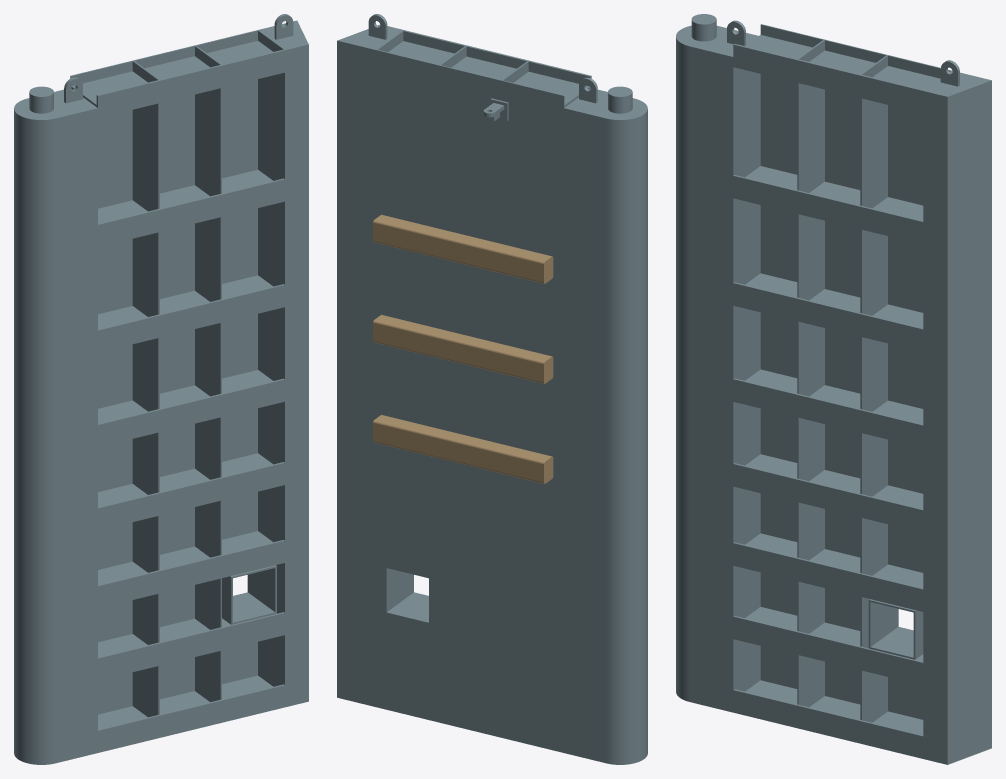
The model's file is step_08.glb.
The picture shows the model from 3 angles, left to right: view 1: azimuth 30°, elevation 25°; view 2: azimuth 150°, elevation 25°; view 3: azimuth 330°, elevation 25°; orthographic projection.
Visible parts, largest first — view 1: part__heel post, part__skin plate, part__mitre post, part__stiffener 1, part__stiffener 2, part__girder 8, part__girder 3, part__girder 6, part__girder 4, part__girder 5, part__girder 1, part__girder 7 (+2 smaller); view 2: part__skin plate, part__heel post, part__mitre post, part__oak fender 2, part__oak fender 1, part__oak fender 3, part__girder 8, part__paddle culvert; view 3: part__heel post, part__mitre post, part__skin plate, part__stiffener 1, part__stiffener 2, part__girder 8, part__girder 3, part__girder 1, part__girder 4, part__girder 6, part__girder 5, part__girder 7 (+2 smaller).
Part boxes in pixels (x1,y1,x2,y2): part__heel post: (14, 86, 97, 764); part__skin plate: (70, 30, 257, 714); part__mitre post: (257, 20, 308, 707); part__stiffener 1: (132, 61, 159, 717); part__stiffener 2: (195, 45, 221, 701); part__girder 8: (71, 41, 284, 117); part__girder 3: (98, 531, 284, 608); part__girder 6: (98, 275, 284, 352); part__girder 4: (98, 453, 284, 530); part__girder 5: (98, 370, 284, 447); part__girder 1: (98, 675, 284, 752); part__girder 7: (98, 169, 284, 246); part__skin plate: (377, 50, 564, 752); part__heel post: (564, 86, 647, 764); part__mitre post: (337, 24, 404, 707); part__oak fender 2: (373, 314, 553, 383); part__oak fender 1: (373, 415, 553, 483); part__oak fender 3: (373, 214, 553, 283); part__girder 8: (388, 30, 591, 107); part__paddle culvert: (387, 568, 428, 621); part__heel post: (676, 14, 760, 712); part__mitre post: (923, 70, 991, 764); part__skin plate: (760, 24, 950, 719); part__stiffener 1: (797, 40, 824, 707); part__stiffener 2: (860, 55, 887, 722); part__girder 8: (733, 35, 939, 113); part__girder 3: (733, 533, 923, 611); part__girder 1: (733, 680, 923, 758); part__girder 4: (733, 454, 923, 532); part__girder 6: (733, 273, 923, 351); part__girder 5: (733, 369, 923, 447); part__girder 7: (733, 166, 923, 244).
Size of the model in its own units: 2760 by 6110 by 670.
